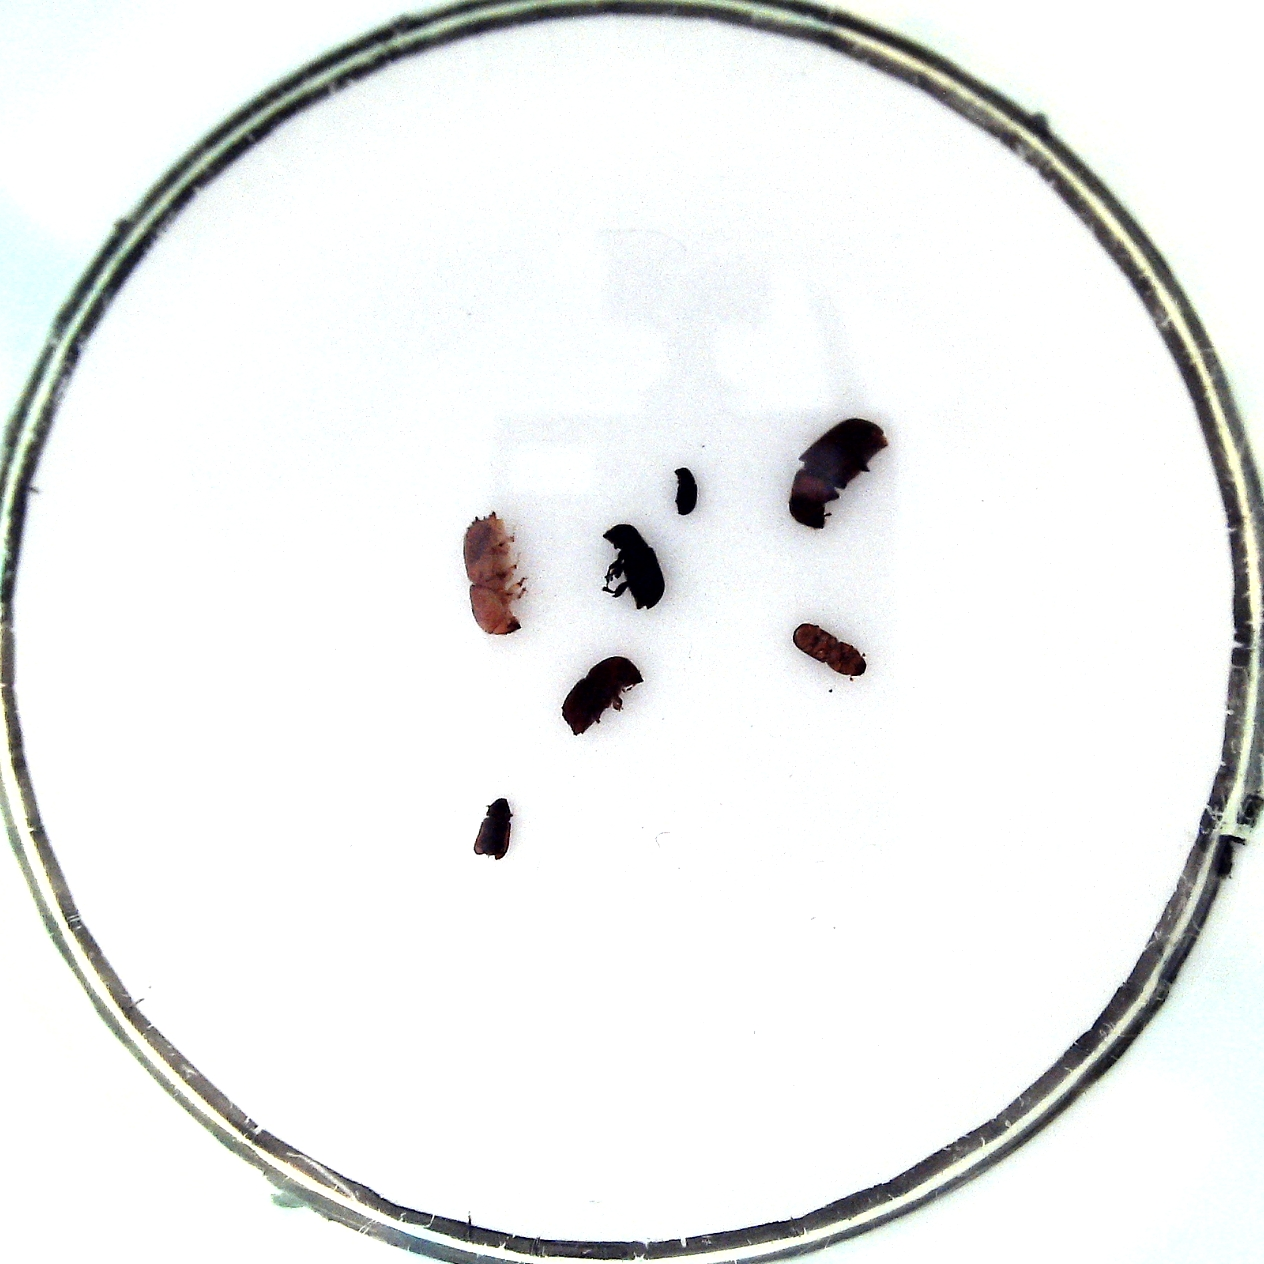Boerner: (462, 512, 526, 635)
Leconte: (789, 418, 891, 529)
acuminatus: (674, 466, 697, 514)
armandi: (603, 523, 666, 610)
coleoptera: (792, 623, 867, 676), (475, 798, 512, 859)
linnaeus: (561, 656, 645, 735)
